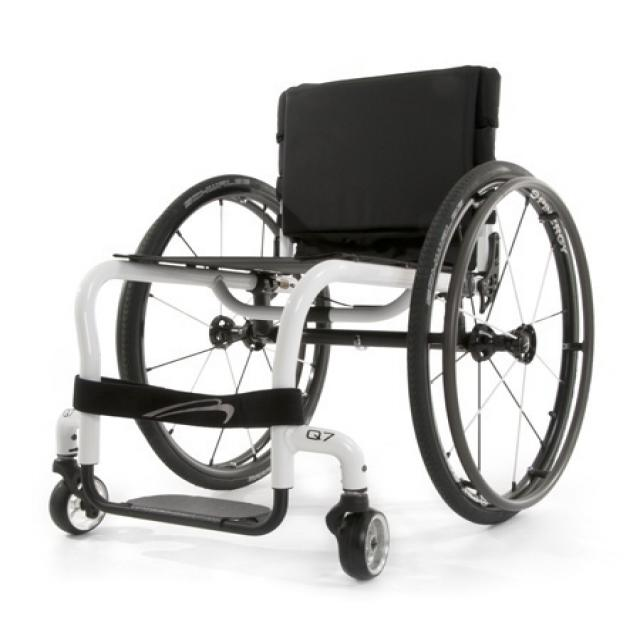wheelchair: (48, 49, 602, 594)
